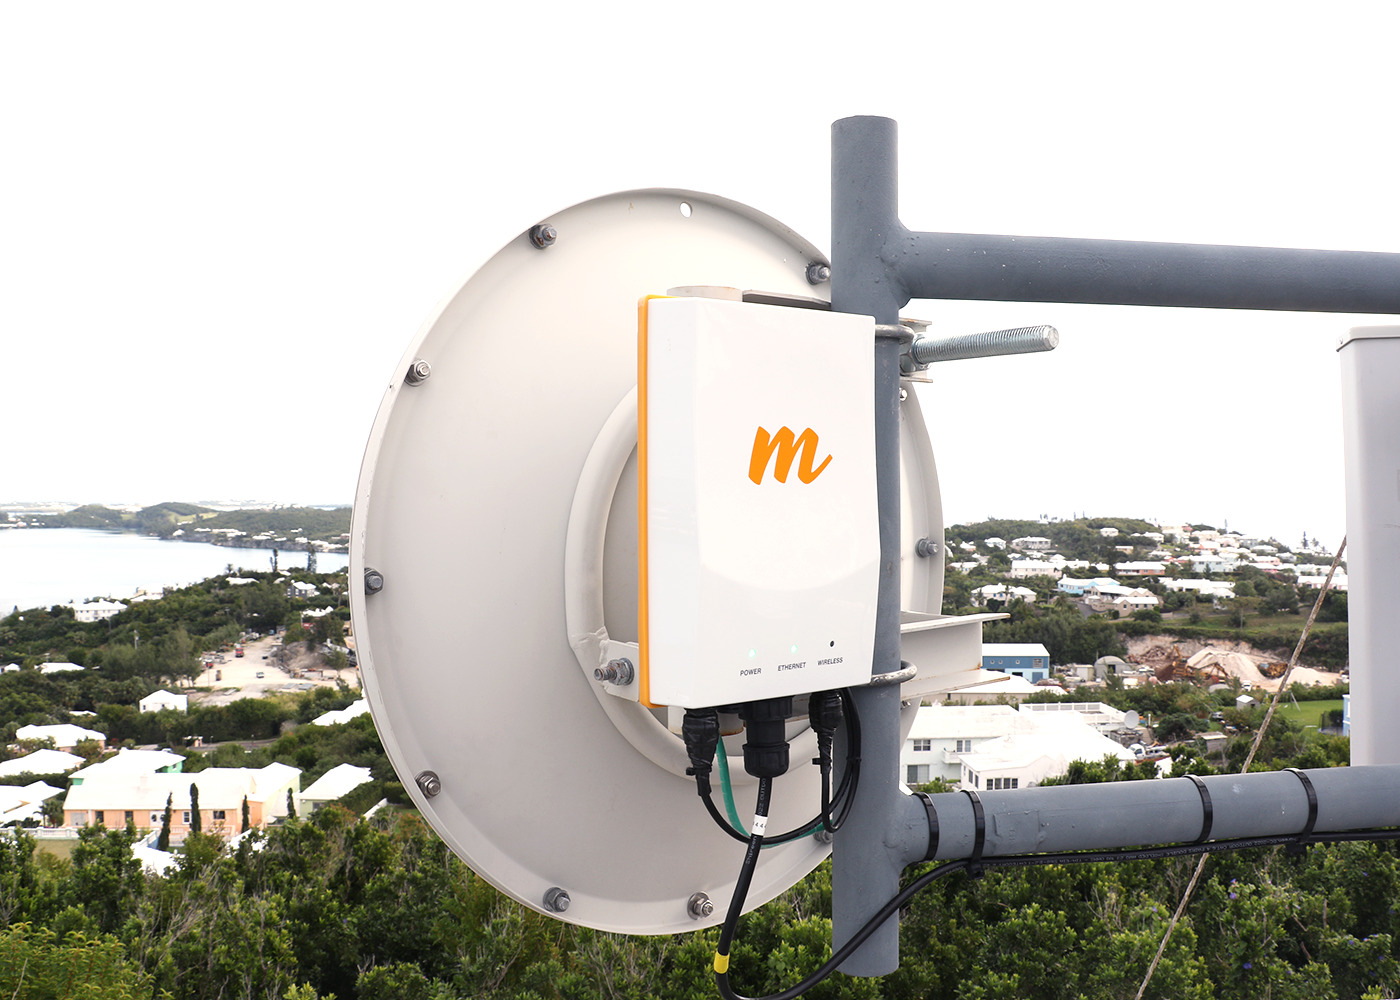ba: (279, 162, 1073, 944)
